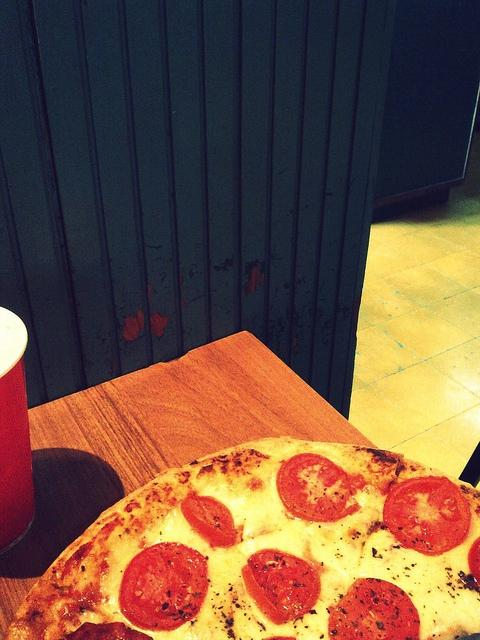tomato: (118, 542, 211, 632), (381, 475, 470, 555), (241, 548, 321, 626), (326, 578, 420, 639), (276, 453, 351, 522), (181, 493, 236, 548), (63, 622, 153, 640), (468, 536, 480, 586), (268, 635, 296, 638)
